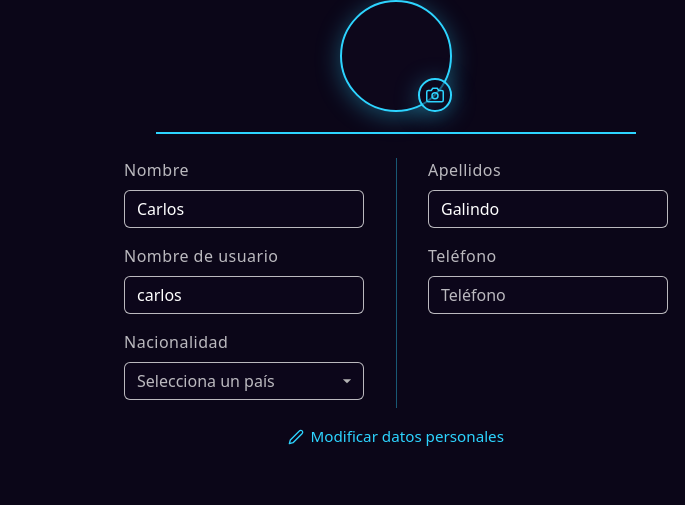
it: PerfilPanel › al guardar con éxito, actualiza los datos y sale del modo edición
Check: the field showing "Carlos" is shown, box x1=124 y1=190 x2=364 y2=228
Click the button "Modificar datos personales" at (396, 436), box x1=270 y1=416 x2=522 y2=457
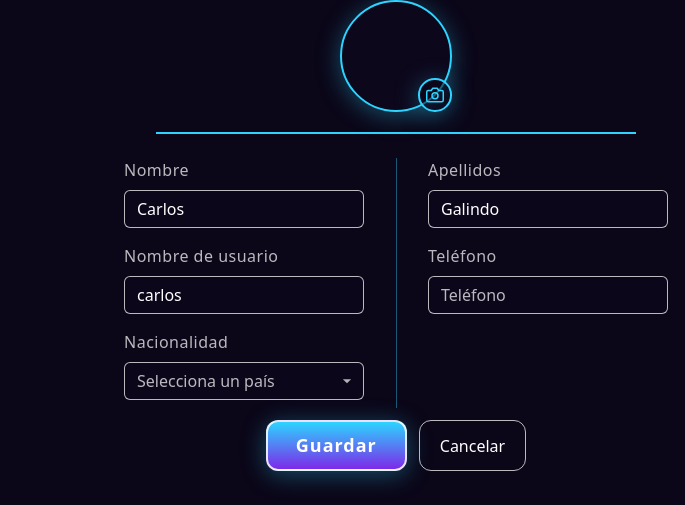
Replace the text in the field labelled "Nombre" with "Carlos II" at (244, 209), box x1=124 y1=190 x2=364 y2=228
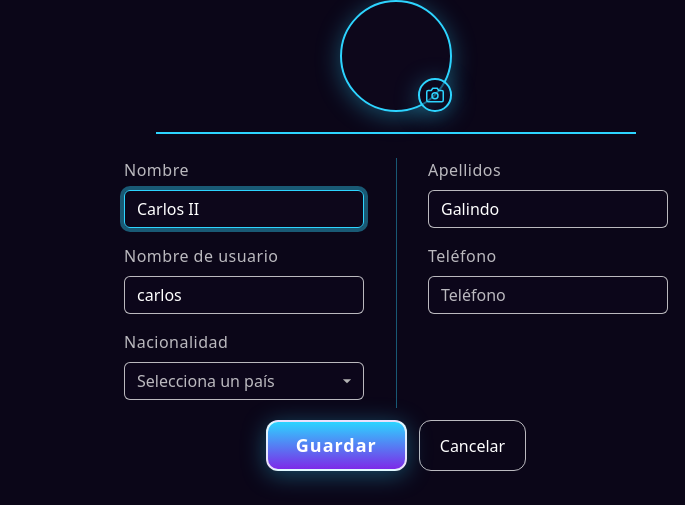
Click the button "Guardar" at (336, 446), box x1=266 y1=420 x2=407 y2=471
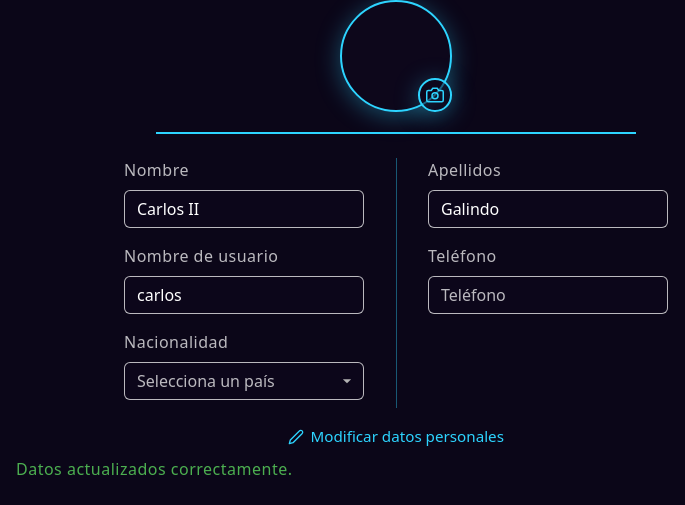
Check: the message shows "actualizados correctamente", box x1=16 y1=458 x2=292 y2=480
Check: the button "Modificar datos personales" is shown, box x1=270 y1=416 x2=522 y2=457
